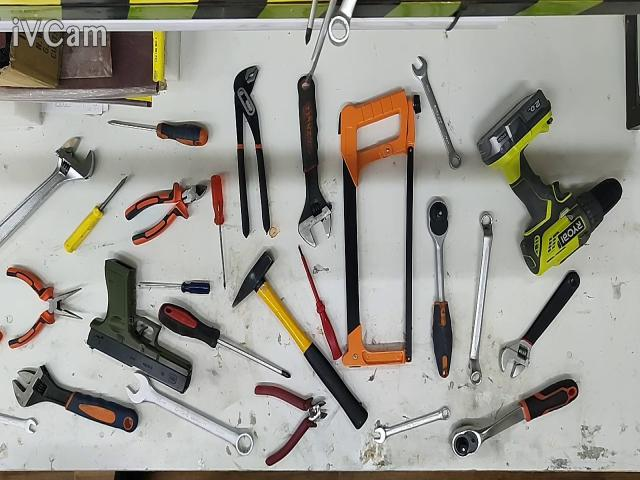Adjustable spanner: (0, 137, 96, 246), (500, 270, 580, 378), (14, 364, 139, 432), (298, 77, 331, 247)
Backsaw: (339, 90, 420, 367)
Cutting pliers: (255, 385, 328, 466), (125, 182, 208, 245)
Drill: (476, 90, 621, 274)
Gas wrench: (234, 67, 271, 237)
Gun: (88, 258, 192, 392)
Hammer: (234, 252, 368, 428)
Needle-nose pliers: (6, 267, 84, 348)
Ratchet: (451, 380, 579, 456), (428, 198, 451, 377)
Screwdriver: (159, 303, 291, 379), (299, 245, 344, 360), (64, 177, 128, 252), (108, 121, 209, 146), (211, 175, 226, 291), (139, 280, 211, 293)
Wrench: (126, 372, 254, 456), (411, 57, 461, 169), (468, 211, 493, 385), (374, 405, 450, 442), (328, 0, 356, 46)
